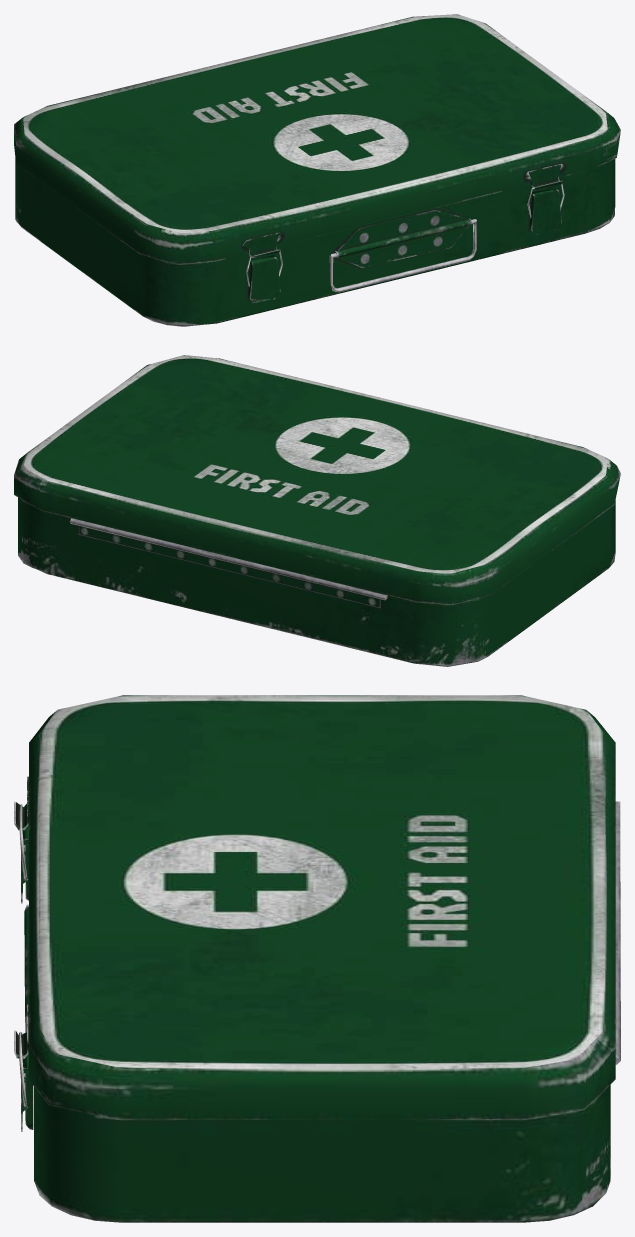
Rendered from medical_box.slim.glb.
3 renders of one model, top to bottom at view 1: azimuth 30°, elevation 25°; view 2: azimuth 150°, elevation 25°; view 3: azimuth 270°, elevation 25°, orthographic. The views are drawn at different scales.
Bounding box in the file's own units: 0.5255 × 0.0975 × 0.3501.
Materials: 1 (1 with a texture image).
